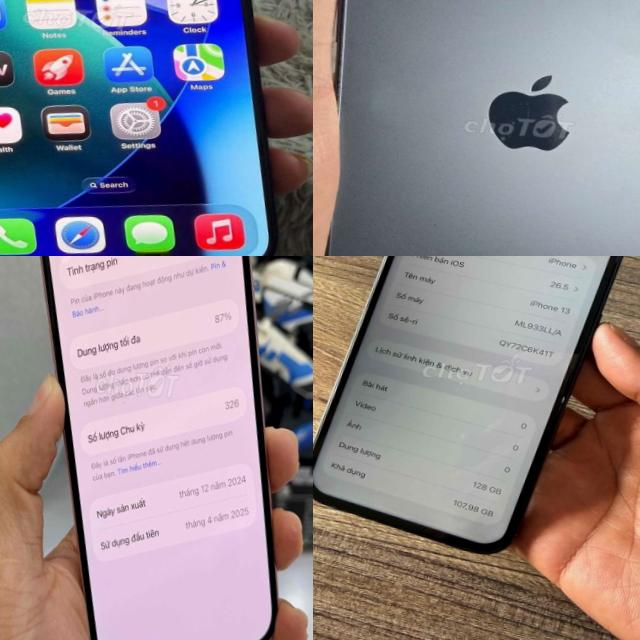gen_12_13: (313, 256, 634, 571), (313, 0, 640, 256)
gen_15: (0, 256, 313, 640), (0, 0, 313, 256)
